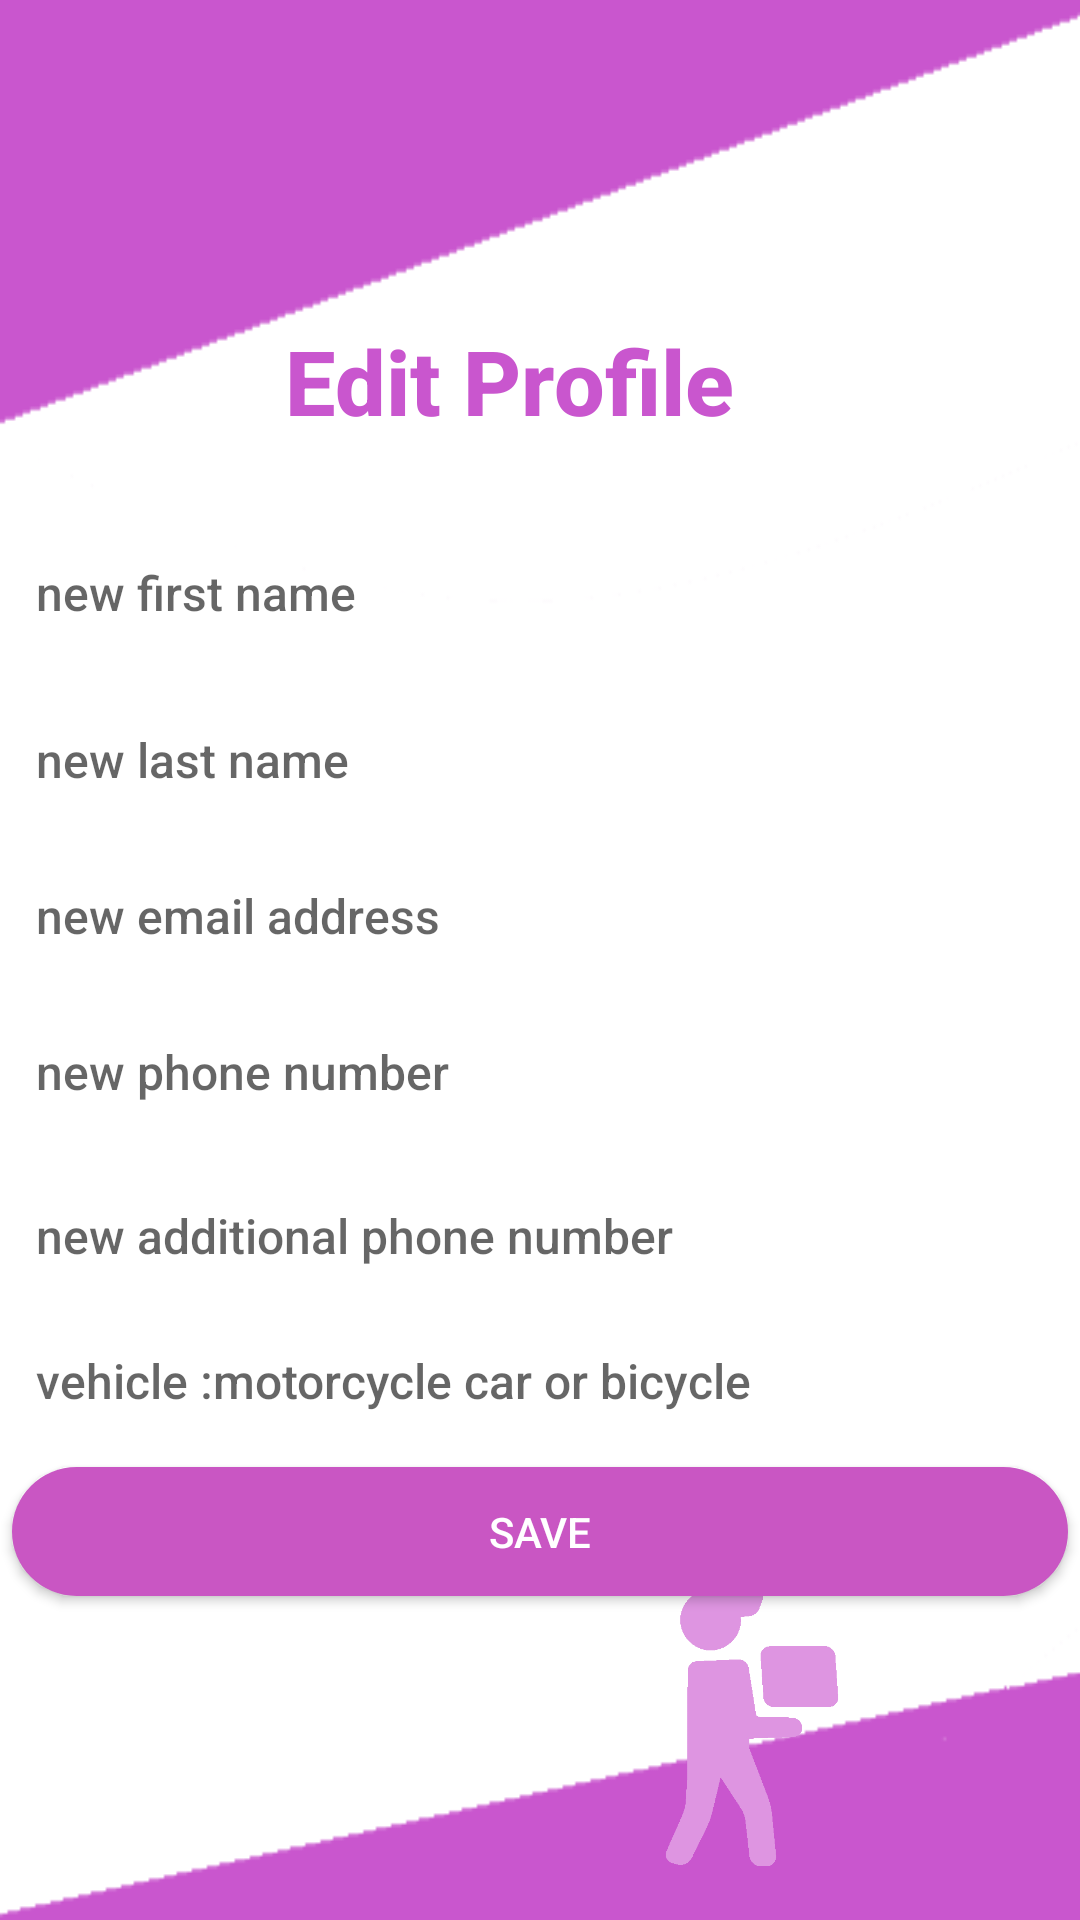

Icon click points for this 1080x1920 phone screenshot, format (x=x, y=y):
deliverymanpurpol: (x=752, y=1731)
